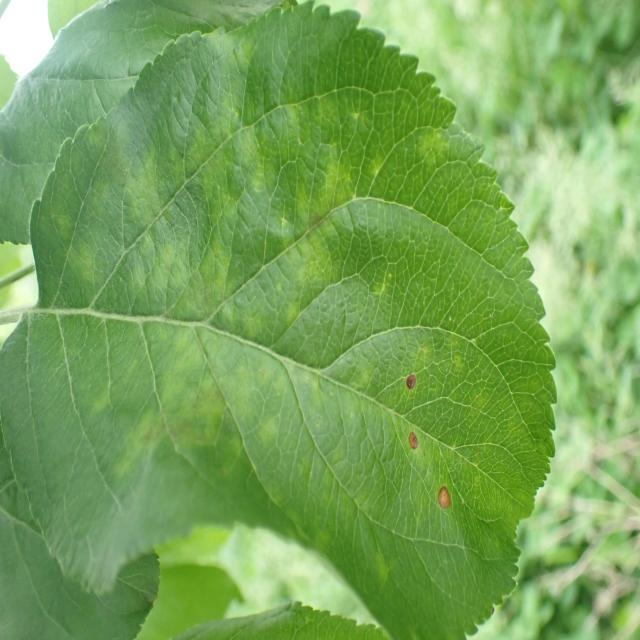Black Rot: (426, 476, 455, 524), (393, 362, 425, 404), (396, 420, 421, 463)
